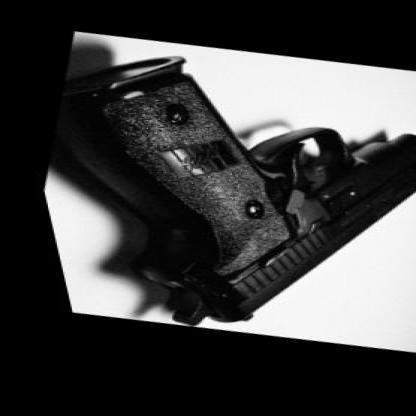pistol: (8, 25, 412, 376)
